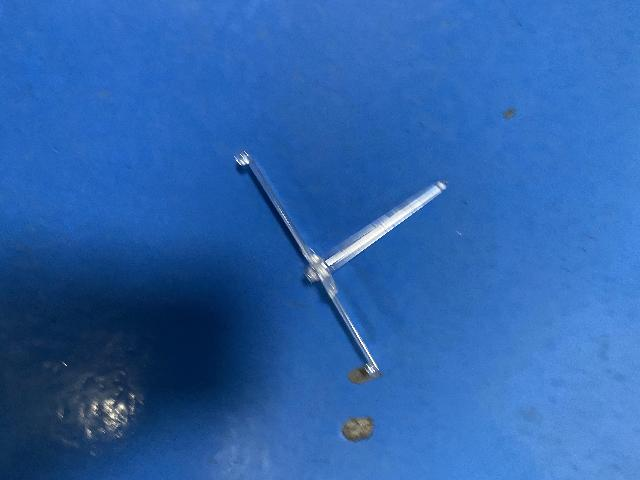Plastik: (232, 151, 448, 379)
